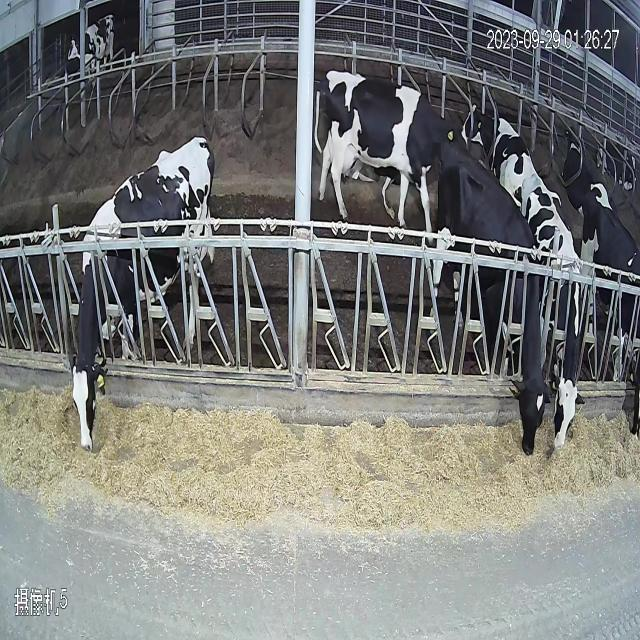feeding: (62, 100, 237, 473), (444, 155, 546, 490), (552, 160, 593, 476)
standing: (322, 52, 451, 210), (55, 13, 124, 94)
